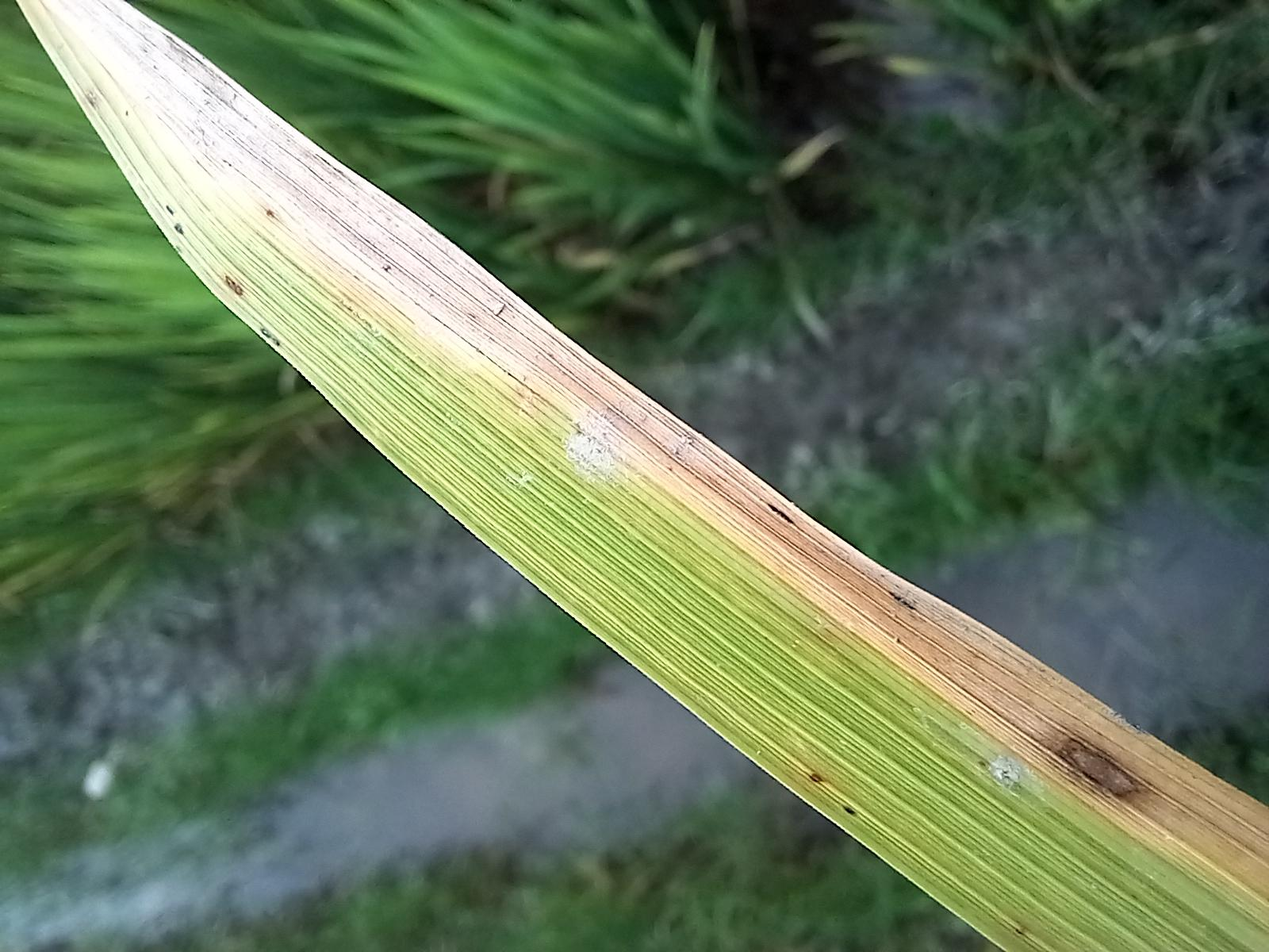LEAF: (0, 15, 1268, 951)
LEAF BLAST: (206, 798, 272, 855)
